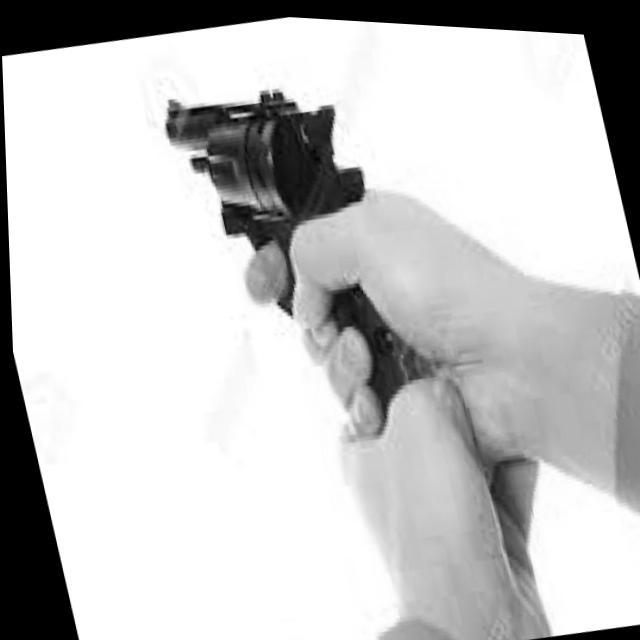weapon: (154, 51, 443, 446)
